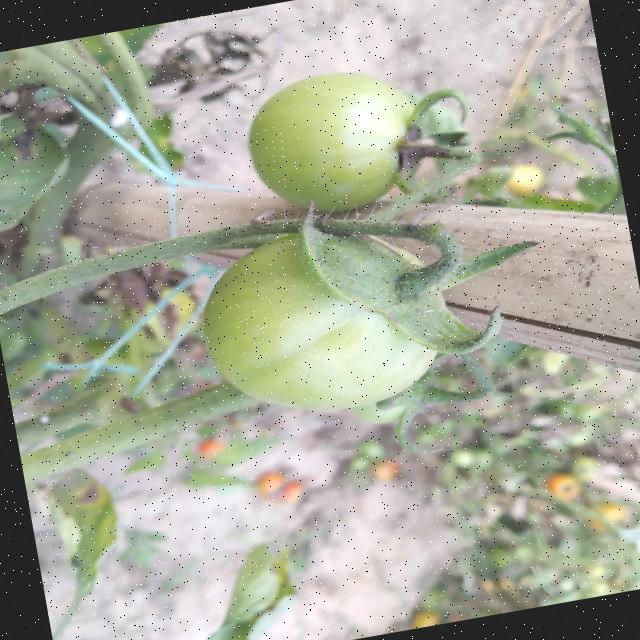Unripe: (184, 206, 461, 432), (237, 57, 435, 227)
